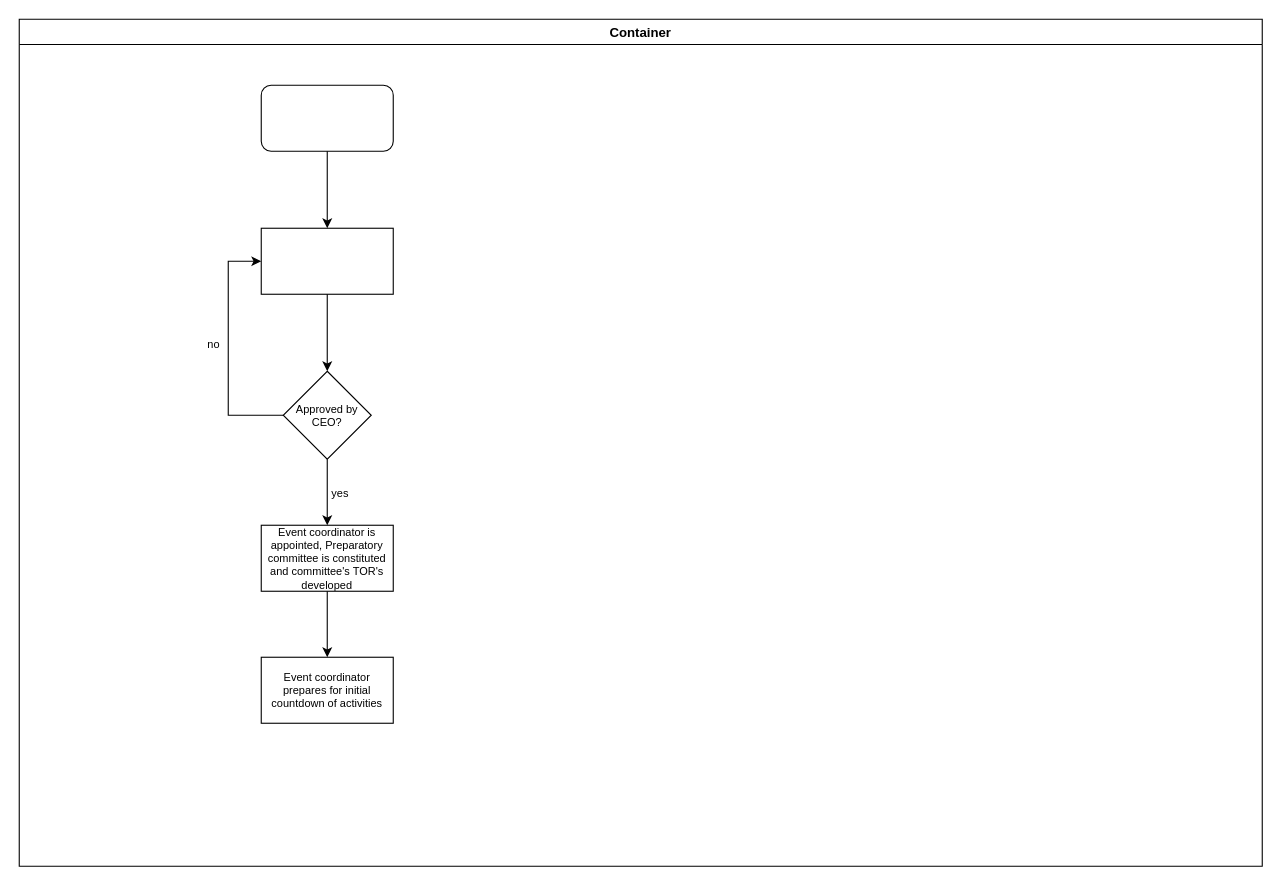
The diagram is 1282 pixels wide and 886 high, and some of its shapes have lost their labels. The shapes that lost their labels are listed below. From the top down, each one's centre as x and y in pixels, then its label:
the point at 326,117: Start
the point at 326,260: HOD Develops a concept
